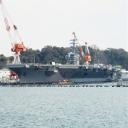Portanaves: (7, 37, 125, 88)
